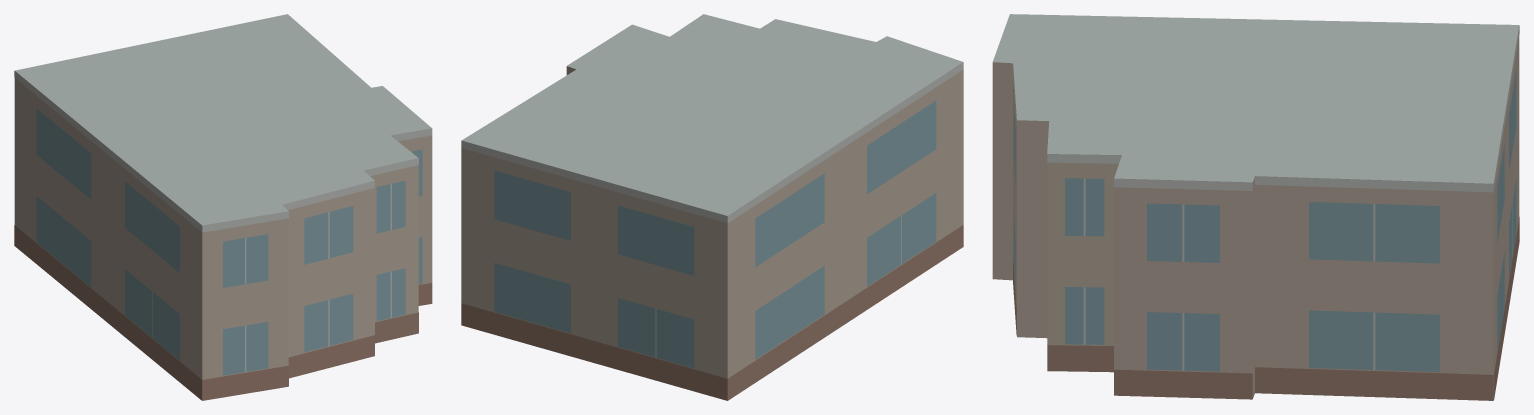
File: survey-upis-32946702.glb
3 views of the same model, side by side, from view 1: azimuth 30°, elevation 25°; view 2: azimuth 150°, elevation 25°; view 3: azimuth 270°, elevation 25° (orthographic). The views are drawn at different scales.
Visible parts, largest first — view 1: survey-upis-32946702.tmp; view 2: survey-upis-32946702.tmp; view 3: survey-upis-32946702.tmp.
Part boxes in pixels (x1,y1,x2,y2): survey-upis-32946702.tmp: (14, 14, 432, 400); survey-upis-32946702.tmp: (461, 14, 963, 400); survey-upis-32946702.tmp: (992, 14, 1519, 400).
Bounding box in the file's own units: 10.24 × 6.1 × 13.43.
